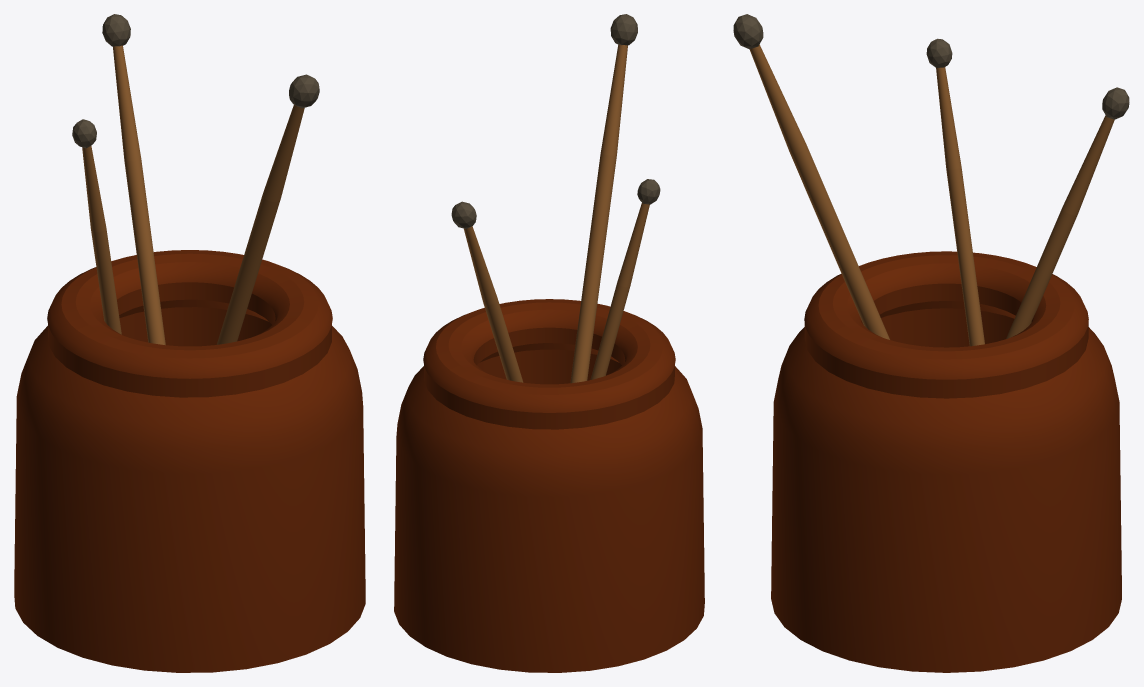
The model's file is brushcup.glb.
The picture shows the model from 3 angles, left to right: view 1: azimuth 30°, elevation 25°; view 2: azimuth 150°, elevation 25°; view 3: azimuth 270°, elevation 25°; orthographic projection. The views are drawn at different scales.
Visible parts, largest first — view 1: Zylinder.005, Torus, Zylinder.001, Zylinder.003, Zylinder.002, Zylinder.004, Icokugel, Icokugel.001, Icokugel.002; view 2: Zylinder.005, Torus, Zylinder.002, Zylinder.001, Zylinder.004, Zylinder.003, Icokugel, Icokugel.001, Icokugel.002; view 3: Zylinder.005, Torus, Zylinder.001, Zylinder.002, Zylinder.004, Zylinder.003, Icokugel, Icokugel.001, Icokugel.002.
Part boxes in pixels (x1=…): Zylinder.005: x1=14, y1=325, x2=365, y2=672; Torus: x1=47, y1=250, x2=332, y2=378; Zylinder.001: x1=117, y1=282, x2=275, y2=346; Zylinder.003: x1=113, y1=45, x2=165, y2=345; Zylinder.002: x1=216, y1=105, x2=304, y2=344; Zylinder.004: x1=82, y1=146, x2=121, y2=334; Icokugel: x1=289, y1=74, x2=319, y2=108; Icokugel.001: x1=102, y1=14, x2=130, y2=46; Icokugel.002: x1=72, y1=119, x2=96, y2=148; Zylinder.005: x1=394, y1=366, x2=704, y2=672; Torus: x1=423, y1=299, x2=675, y2=412; Zylinder.002: x1=570, y1=44, x2=627, y2=383; Zylinder.001: x1=473, y1=327, x2=625, y2=384; Zylinder.004: x1=590, y1=202, x2=649, y2=379; Zylinder.003: x1=464, y1=226, x2=523, y2=382; Icokugel: x1=610, y1=14, x2=637, y2=45; Icokugel.001: x1=451, y1=201, x2=476, y2=228; Icokugel.002: x1=637, y1=179, x2=660, y2=204; Zylinder.005: x1=771, y1=322, x2=1121, y2=672; Torus: x1=804, y1=251, x2=1088, y2=379; Zylinder.001: x1=861, y1=283, x2=1021, y2=347; Zylinder.002: x1=749, y1=44, x2=889, y2=339; Zylinder.004: x1=936, y1=67, x2=984, y2=346; Zylinder.003: x1=1006, y1=115, x2=1114, y2=338; Icokugel: x1=733, y1=14, x2=763, y2=49; Icokugel.001: x1=1102, y1=87, x2=1129, y2=119; Icokugel.002: x1=926, y1=38, x2=952, y2=67.
Bounding box in the file's own units: 2 × 3.71 × 2.26.
